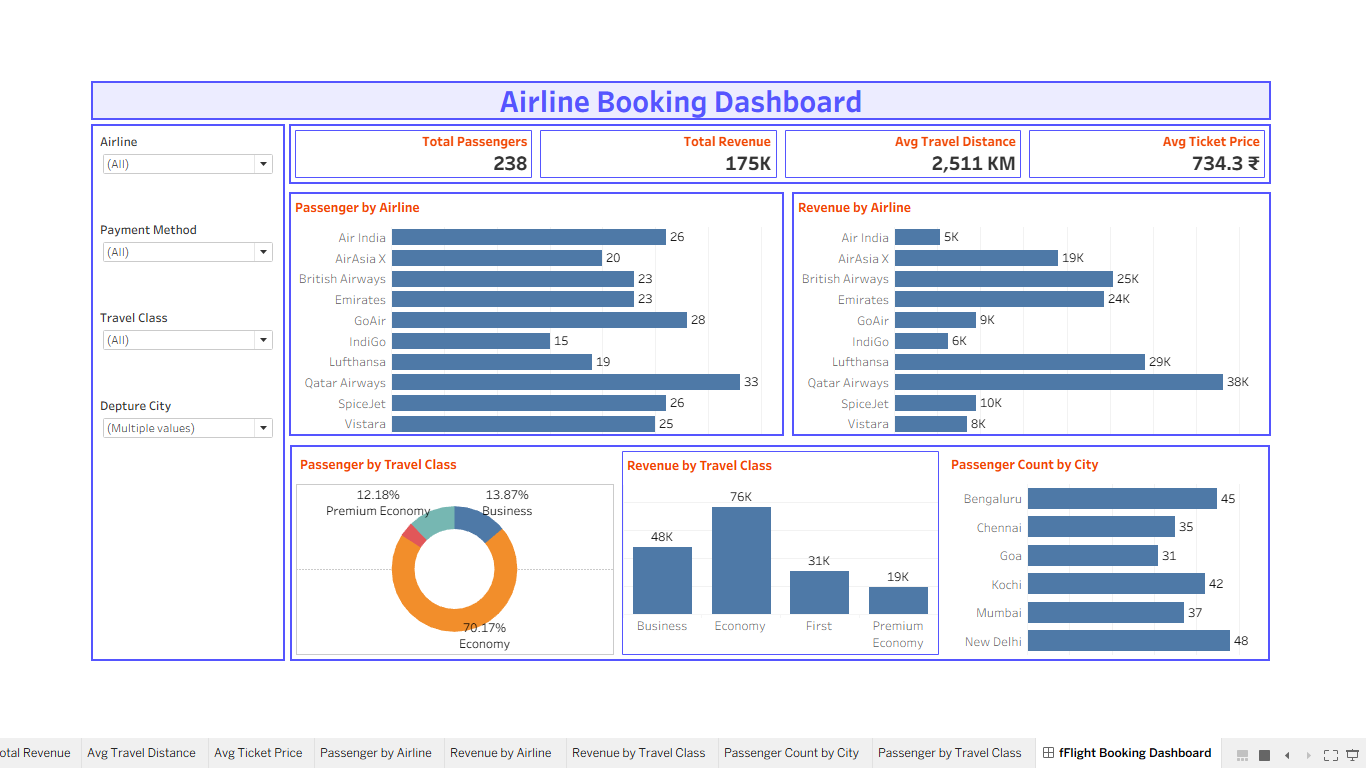

Layout of this report page (visuals, bound fields, positions):
{"tool":"tableau","page":{"name":"fFlight Booking Dashboard ","canvas":[1200,600],"ordinal":0},"visuals":[{"type":"text","box":[8,8,1184,46.9]},{"type":"worksheet","title":"Total Passengers","mark":"Automatic","box":[208,57,245,56]},{"type":"worksheet","title":"Total Revenue","mark":"Automatic","box":[453,57,245,56]},{"type":"worksheet","title":"Avg Travel Distance","mark":"Automatic","box":[698,57,244,56]},{"type":"worksheet","title":"Avg Ticket Price","mark":"Automatic","box":[942,57,244,56]},{"type":"filter","title":"Passenger by Airline","param":"[federated.1ifynri0cqlgbr16ywdqw1i9xpku].[none:Airline:nk]","box":[13,60,184,88]},{"type":"worksheet","title":"Passenger by Airline","mark":"Bar","rows":["Airline"],"cols":["Calculation_0840046824316928"],"box":[201.7,119,503,251.8]},{"type":"worksheet","title":"Revenue by Airline ","mark":"Bar","rows":["Airline"],"cols":["Calculation_0840046826893313"],"box":[705,119,487,252]},{"type":"filter","title":"Passenger by Airline","param":"[federated.1ifynri0cqlgbr16ywdqw1i9xpku].[none:Payment_Method:nk]","box":[13,148,184,88]},{"type":"filter","title":"Passenger by Airline","param":"[federated.1ifynri0cqlgbr16ywdqw1i9xpku].[none:Travel_Class:nk]","box":[13,236,184,88]},{"type":"filter","title":"Passenger by Airline","param":"[federated.1ifynri0cqlgbr16ywdqw1i9xpku].[none:Depture_City:nk]","box":[13,324,184,88]},{"type":"worksheet","title":"Passenger by Travel Class","mark":"Pie","rows":["Calculation_0840046838439942","Calculation_0840046838439942"],"box":[209,378,326,212]},{"type":"worksheet","title":"Revenue by Travel Class","mark":"Automatic","rows":["Calculation_0840046826893313"],"cols":["Travel_Class"],"box":[535,378,325,212]},{"type":"worksheet","title":"Passenger Count by City","mark":"Automatic","rows":["Depture_City"],"cols":["Calculation_0840046824316928"],"box":[860,378,325,212]}]}

Visuals, with their boxes on the page's 1200x600 design canvas (x1, y1, x2, y2). These are canvas units, not pixel positions in the 1366x768 screenshot, which may show the page scaled, cropped or inside an application window:
text: detection(8, 8, 1192, 55)
"Total Passengers" worksheet: detection(208, 57, 453, 113)
"Total Revenue" worksheet: detection(453, 57, 698, 113)
"Avg Travel Distance" worksheet: detection(698, 57, 942, 113)
"Avg Ticket Price" worksheet: detection(942, 57, 1186, 113)
"Passenger by Airline" filter: detection(13, 60, 197, 148)
"Passenger by Airline" worksheet (Bar marks): detection(202, 119, 705, 371)
"Revenue by Airline " worksheet (Bar marks): detection(705, 119, 1192, 371)
"Passenger by Airline" filter: detection(13, 148, 197, 236)
"Passenger by Airline" filter: detection(13, 236, 197, 324)
"Passenger by Airline" filter: detection(13, 324, 197, 412)
"Passenger by Travel Class" worksheet (Pie marks): detection(209, 378, 535, 590)
"Revenue by Travel Class" worksheet: detection(535, 378, 860, 590)
"Passenger Count by City" worksheet: detection(860, 378, 1185, 590)
